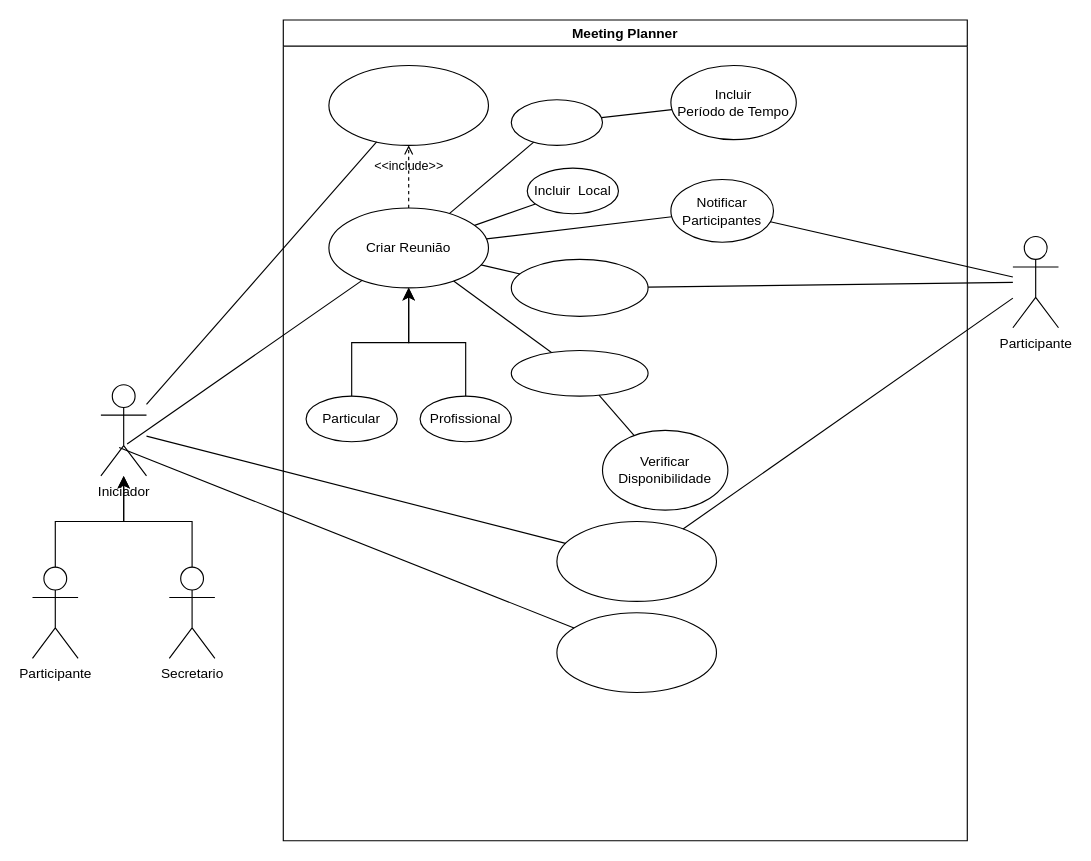
Image size: 1091x861. Some labels were removed from this diagram. Each missing label, with the centre of its shape:
Coletar Informações: the point at 636,560
Incluir Data: the point at 556,122
Incluir Requisitos Especiais: the point at 579,287
Iniciar Login: the point at 408,104
Reservar Sala: the point at 579,372
Suporte ao sistema: the point at 636,652
